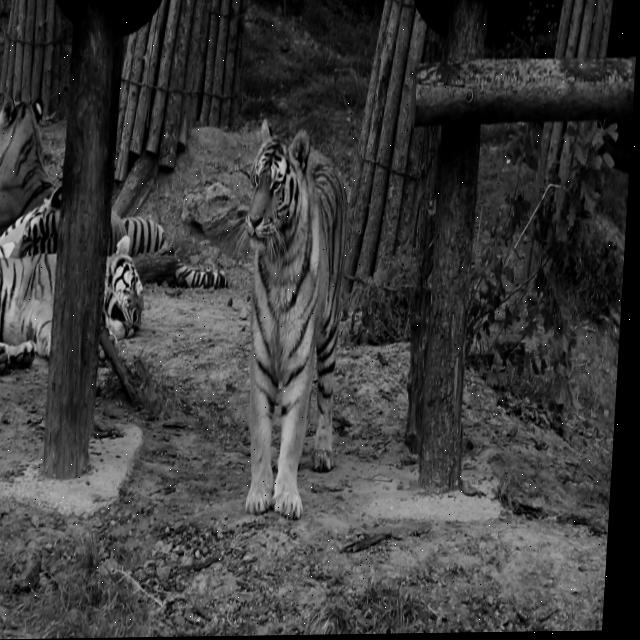Tiger: (223, 116, 356, 521), (0, 234, 148, 375)
